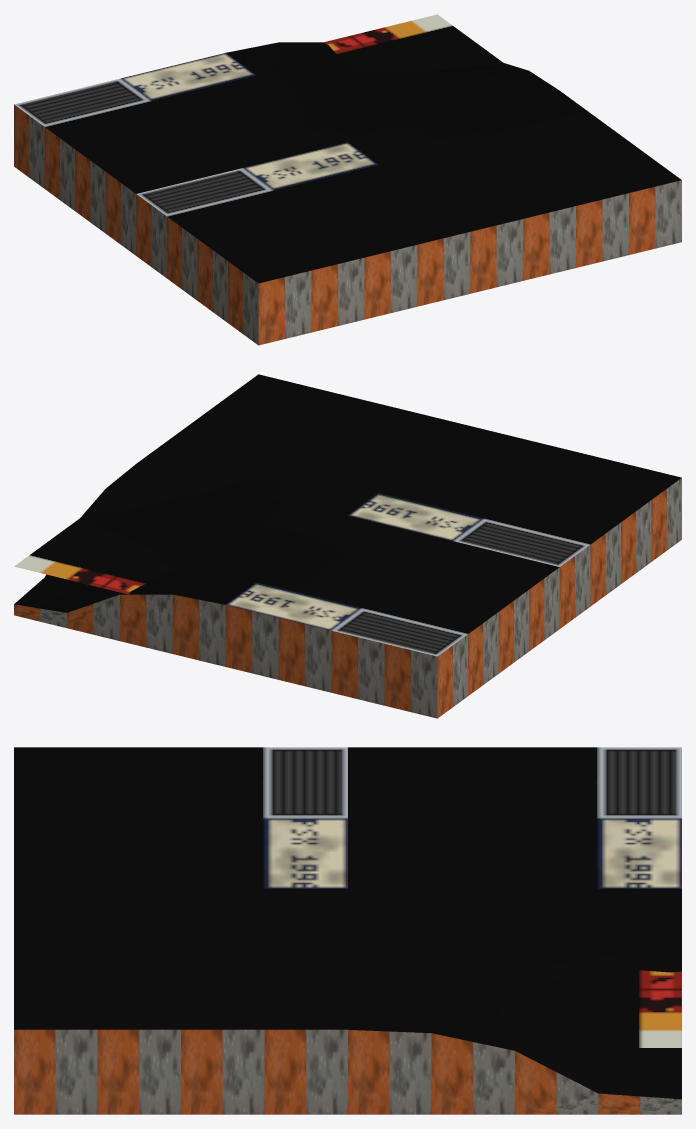
The model's file is SM_shore_corner_in.fbx.
3 views of the same model, one above another, from view 1: azimuth 30°, elevation 25°; view 2: azimuth 150°, elevation 25°; view 3: azimuth 270°, elevation 25° (orthographic). The views are drawn at different scales.
Visible parts, largest first — view 1: shore_corner_in; view 2: shore_corner_in; view 3: shore_corner_in.
Part boxes in pixels (x1=…): shore_corner_in: x1=14, y1=14, x2=681, y2=345; shore_corner_in: x1=14, y1=374, x2=681, y2=718; shore_corner_in: x1=14, y1=747, x2=681, y2=1114.
Bounding box in the file's own units: 4 × 0.56 × 4.
